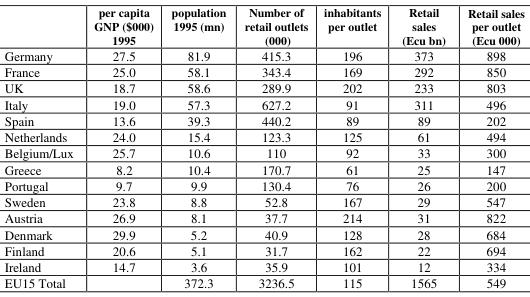table: (3, 4, 523, 290)
table column: (234, 4, 315, 290), (3, 4, 82, 290), (82, 4, 161, 290), (315, 4, 390, 290), (161, 4, 234, 290), (455, 4, 523, 290), (390, 4, 455, 290)
table column header: (3, 4, 523, 47)
table row: (3, 4, 523, 47), (3, 62, 523, 79), (3, 127, 523, 144), (3, 192, 523, 209), (3, 257, 523, 274), (3, 79, 523, 95), (3, 95, 523, 111), (3, 111, 523, 127), (3, 144, 523, 160), (3, 160, 523, 176), (3, 176, 523, 192), (3, 209, 523, 225), (3, 225, 523, 241), (3, 241, 523, 257), (3, 274, 523, 290), (3, 47, 523, 62)
